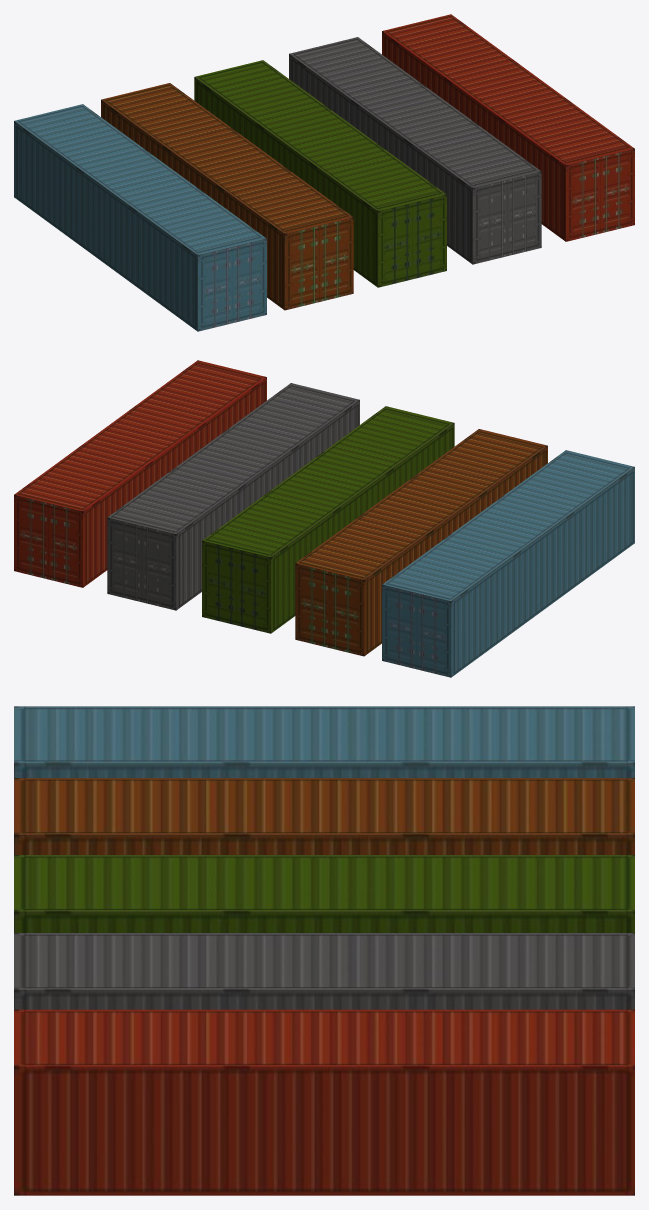
The model's file is containers.glb.
The picture shows the model from 3 angles, top to bottom: view 1: azimuth 30°, elevation 25°; view 2: azimuth 150°, elevation 25°; view 3: azimuth 270°, elevation 25°; orthographic projection. The views are drawn at different scales.
Parts seen in each view (by area): view 1: contBlue, contGrey, contGreen, contRed, contOrange; view 2: contBlue, contGrey, contGreen, contRed, contOrange; view 3: contRed, contGreen, contGrey, contOrange, contBlue.
Part boxes in pixels (x1,y1,x2,y2): contBlue: (14, 104, 266, 331); contGrey: (289, 37, 541, 264); contGreen: (194, 60, 446, 287); contRed: (382, 14, 634, 241); contOrange: (101, 83, 353, 310); contBlue: (382, 450, 634, 677); contGrey: (107, 383, 359, 610); contGreen: (202, 406, 454, 633); contRed: (14, 360, 266, 587); contOrange: (295, 429, 547, 656); contRed: (14, 1009, 634, 1195); contGreen: (14, 855, 634, 932); contGrey: (14, 933, 634, 1009); contOrange: (14, 778, 634, 854); contBlue: (14, 706, 634, 777).
Bounding box in the file's own units: 15.42 × 2.57 × 11.23.
5 materials, 5 textured.
